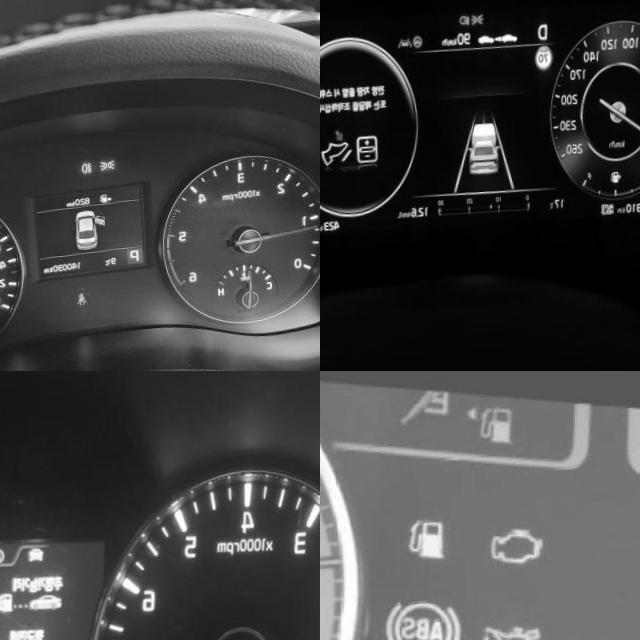FrontFogLight: (80, 167, 91, 180)
Low beam: (458, 19, 470, 32)
SideLamp: (469, 18, 483, 32), (98, 166, 114, 178)
